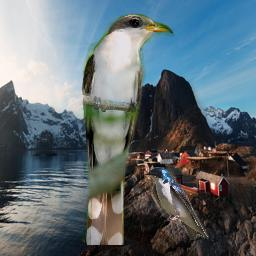Cuckoo: (80, 12, 174, 245)
Swallow: (144, 167, 209, 240)
